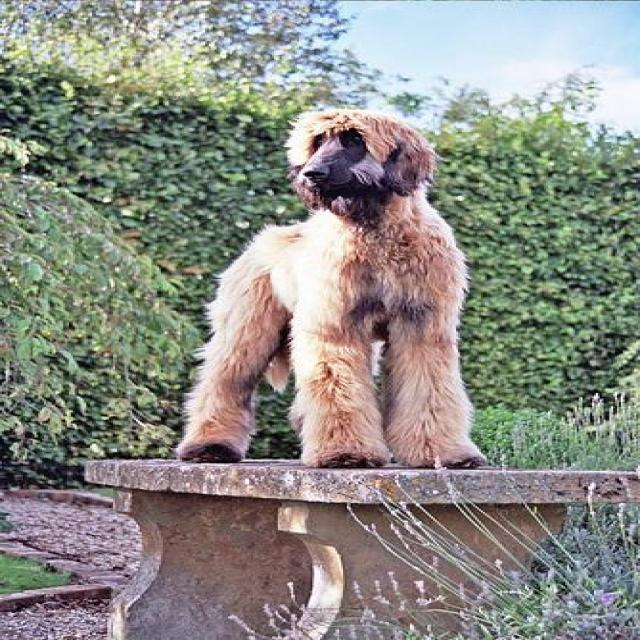afghan_hound: (178, 106, 492, 467)
